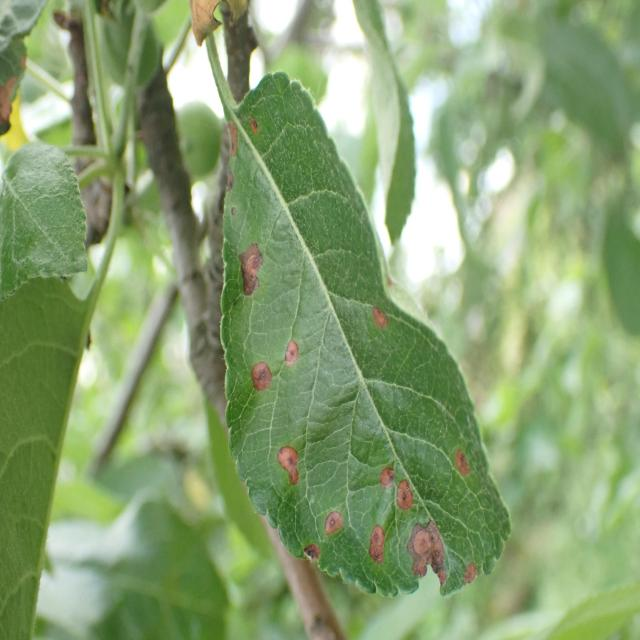Black Rot: (405, 523, 466, 593), (237, 218, 268, 324), (313, 480, 362, 541), (218, 94, 243, 204), (294, 530, 332, 599), (264, 431, 309, 484), (230, 357, 282, 397), (363, 447, 401, 500), (362, 515, 391, 581), (279, 320, 310, 381), (392, 476, 424, 530), (456, 560, 496, 596), (364, 298, 395, 343), (450, 429, 471, 491), (244, 108, 266, 141)
